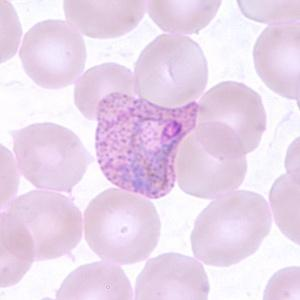Infected: (101, 102, 205, 209)
Uninfected: (27, 34, 110, 107), (214, 37, 297, 108), (204, 110, 289, 178), (139, 37, 216, 112), (52, 101, 125, 177), (33, 143, 107, 217), (91, 193, 165, 266), (213, 210, 282, 281), (0, 201, 49, 278), (90, 0, 163, 48)
